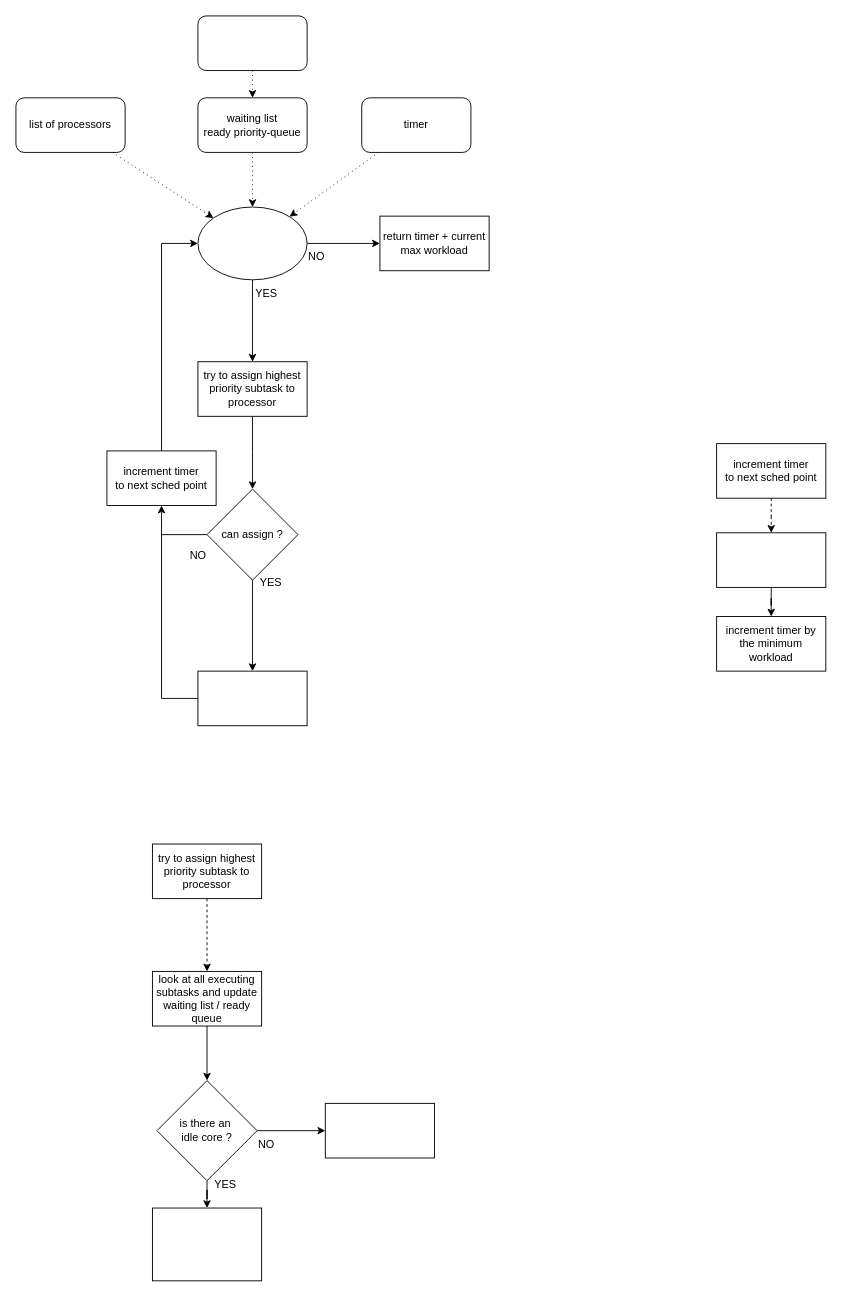
Image size: 842x1297. Some labels were removed from this diagram. The centre of each missing label's shape, as x and y in pixels:
"assign on the first available core and return YES" belongs at [207,1244].
"assign subtask" belongs at [252,698].
"compute minimum core workload" belongs at [771,559].
"DAG task" belongs at [252,43].
"return NO" belongs at [379,1130].
"waiting list and ready-queue not empty" belongs at [252,243].
